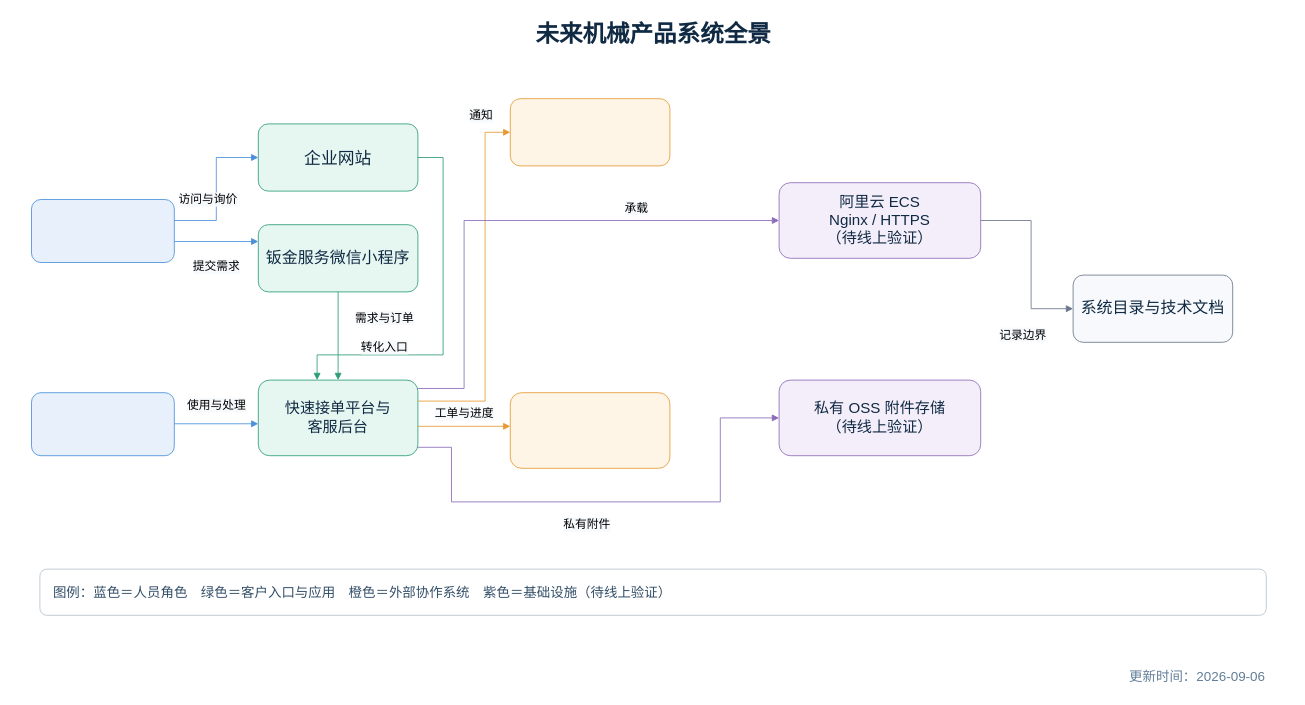
Some shapes in this 1305 by 705 pixel diagram are drawn without their labels. The centre of each missing label's shape, as x and y in pixels:
"企业微信通知与客服" belongs at (x=589, y=132).
"客户" belongs at (x=102, y=230).
"客服、生产与 运维人员" belongs at (x=102, y=424).
"波波工单及车间看板 （待线上联调）" belongs at (x=589, y=430).
